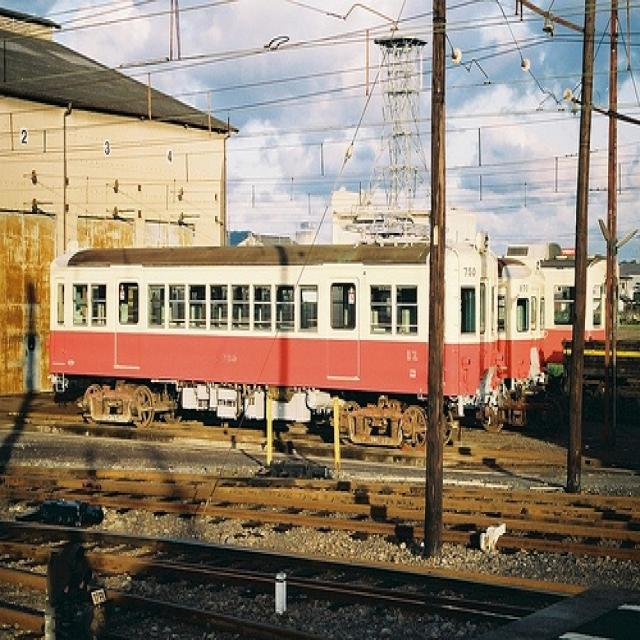train: (46, 240, 503, 452), (488, 255, 552, 429), (544, 250, 622, 380)
